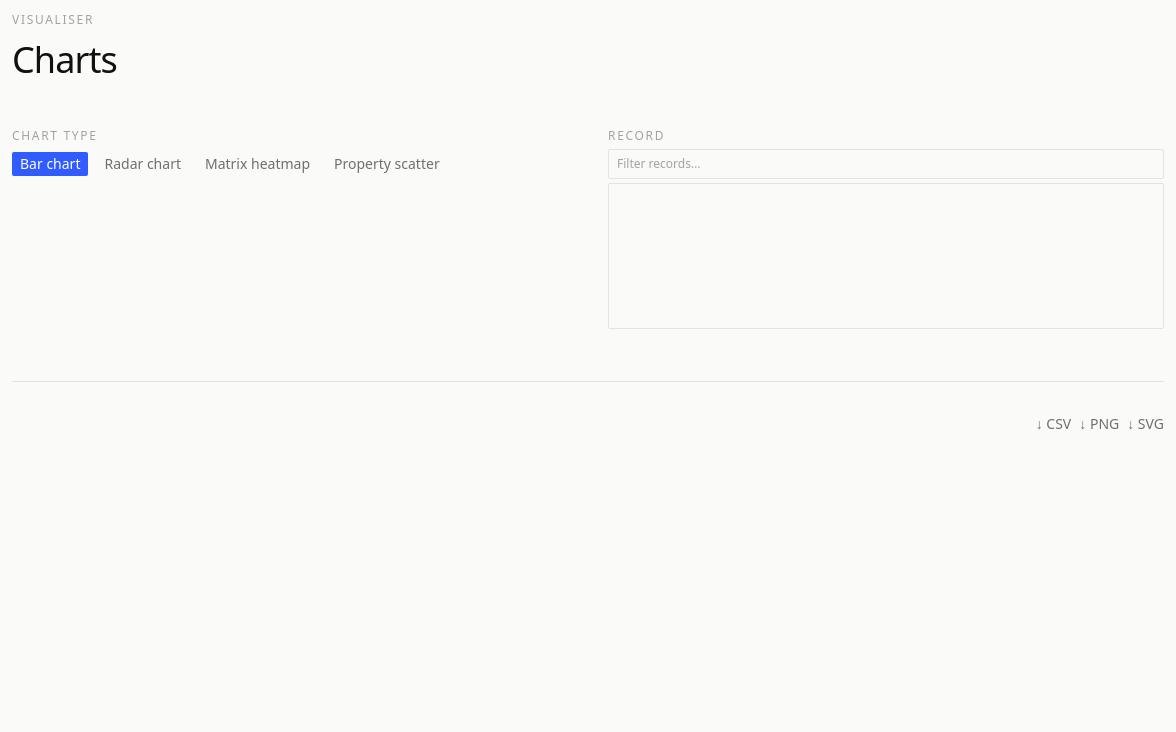
Test case: Visualiser — chart type switching › switching to Radar chart shows "Overlay second record" checkbox
Click the button "Radar chart" at (143, 164), box [96, 152, 189, 176]
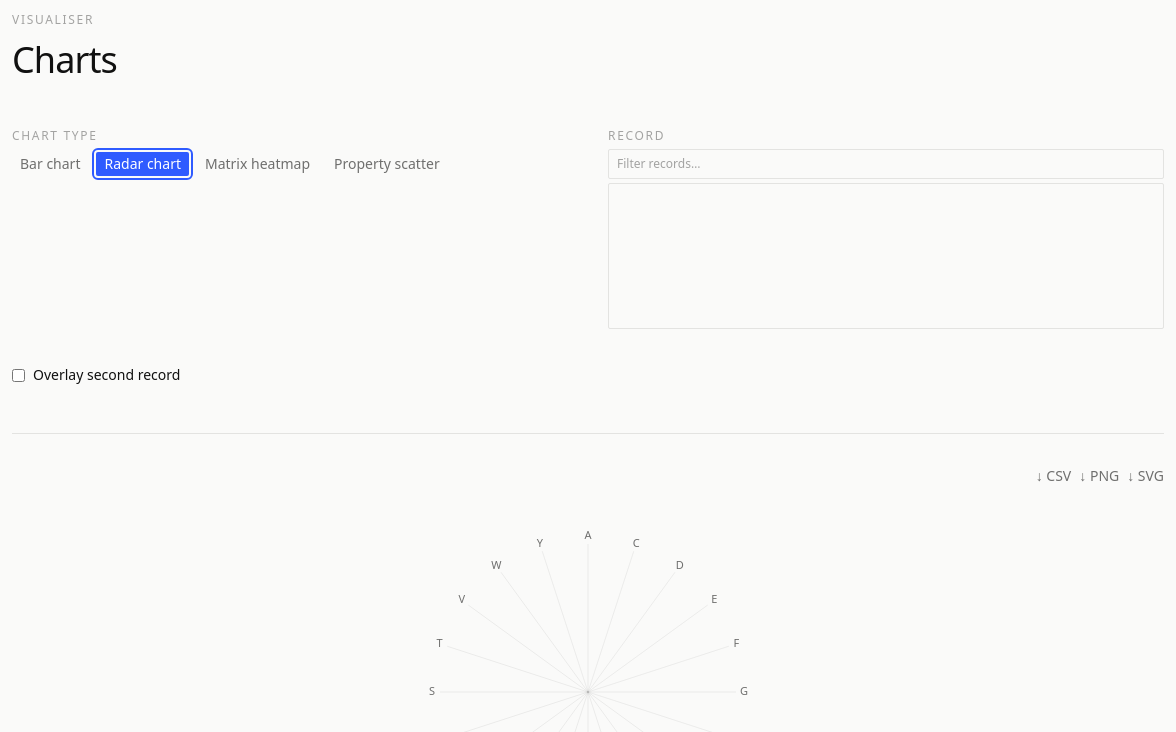
Check: the checkbox labelled "Overlay second record" is shown, box [12, 368, 25, 382]
